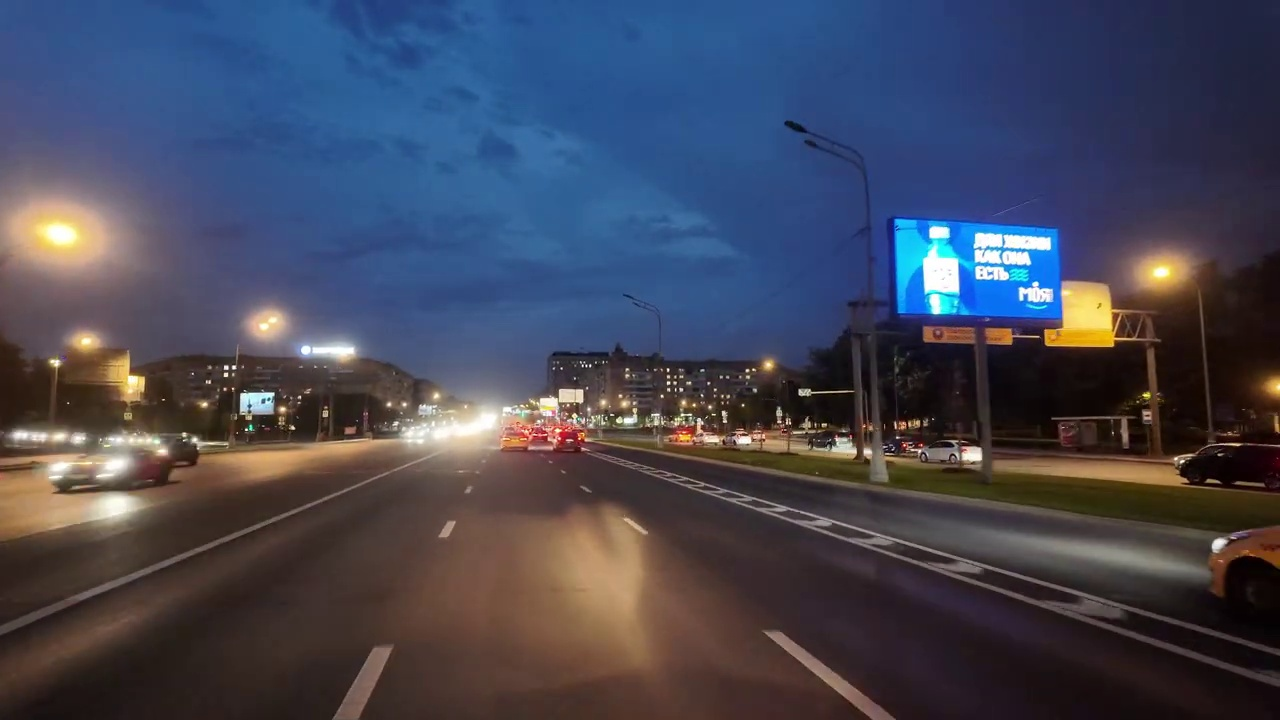acesa: (32, 214, 87, 257), (1140, 252, 1186, 295), (250, 308, 285, 339), (71, 330, 99, 354), (331, 345, 356, 366), (756, 356, 778, 377), (1265, 374, 1279, 403)
apagada: (780, 116, 811, 145)
